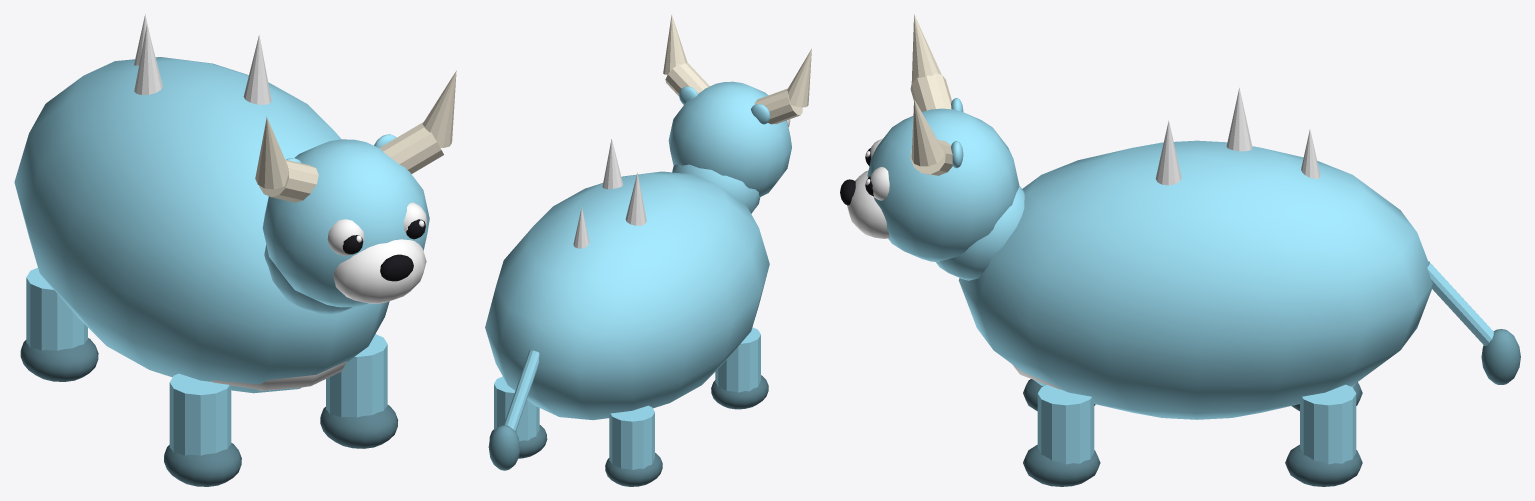
3 views of the same model, side by side, from view 1: azimuth 30°, elevation 25°; view 2: azimuth 150°, elevation 25°; view 3: azimuth 270°, elevation 25° (orthographic). The views are drawn at different scales.
Visible parts, largest first — view 1: Diamond Bull; view 2: Diamond Bull; view 3: Diamond Bull.
Part boxes in pixels (x1,y1,x2,y2): Diamond Bull: (14,14,456,486); Diamond Bull: (485,14,811,486); Diamond Bull: (840,14,1520,486).
Size of the model in its own units: 2.12 by 3.05 by 4.82.
1 material, 1 textured.
